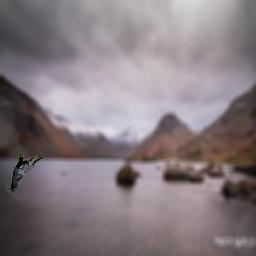Crow: (7, 152, 42, 192)
